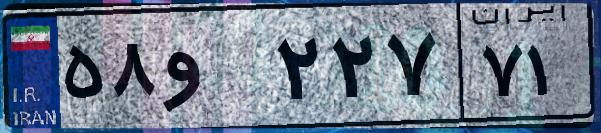1: (525, 38, 570, 115)
2: (270, 28, 330, 110), (330, 28, 385, 110)
5: (57, 26, 110, 100)
7: (385, 28, 445, 110), (475, 38, 525, 113)
8: (110, 28, 158, 98)
و: (158, 20, 270, 120)
